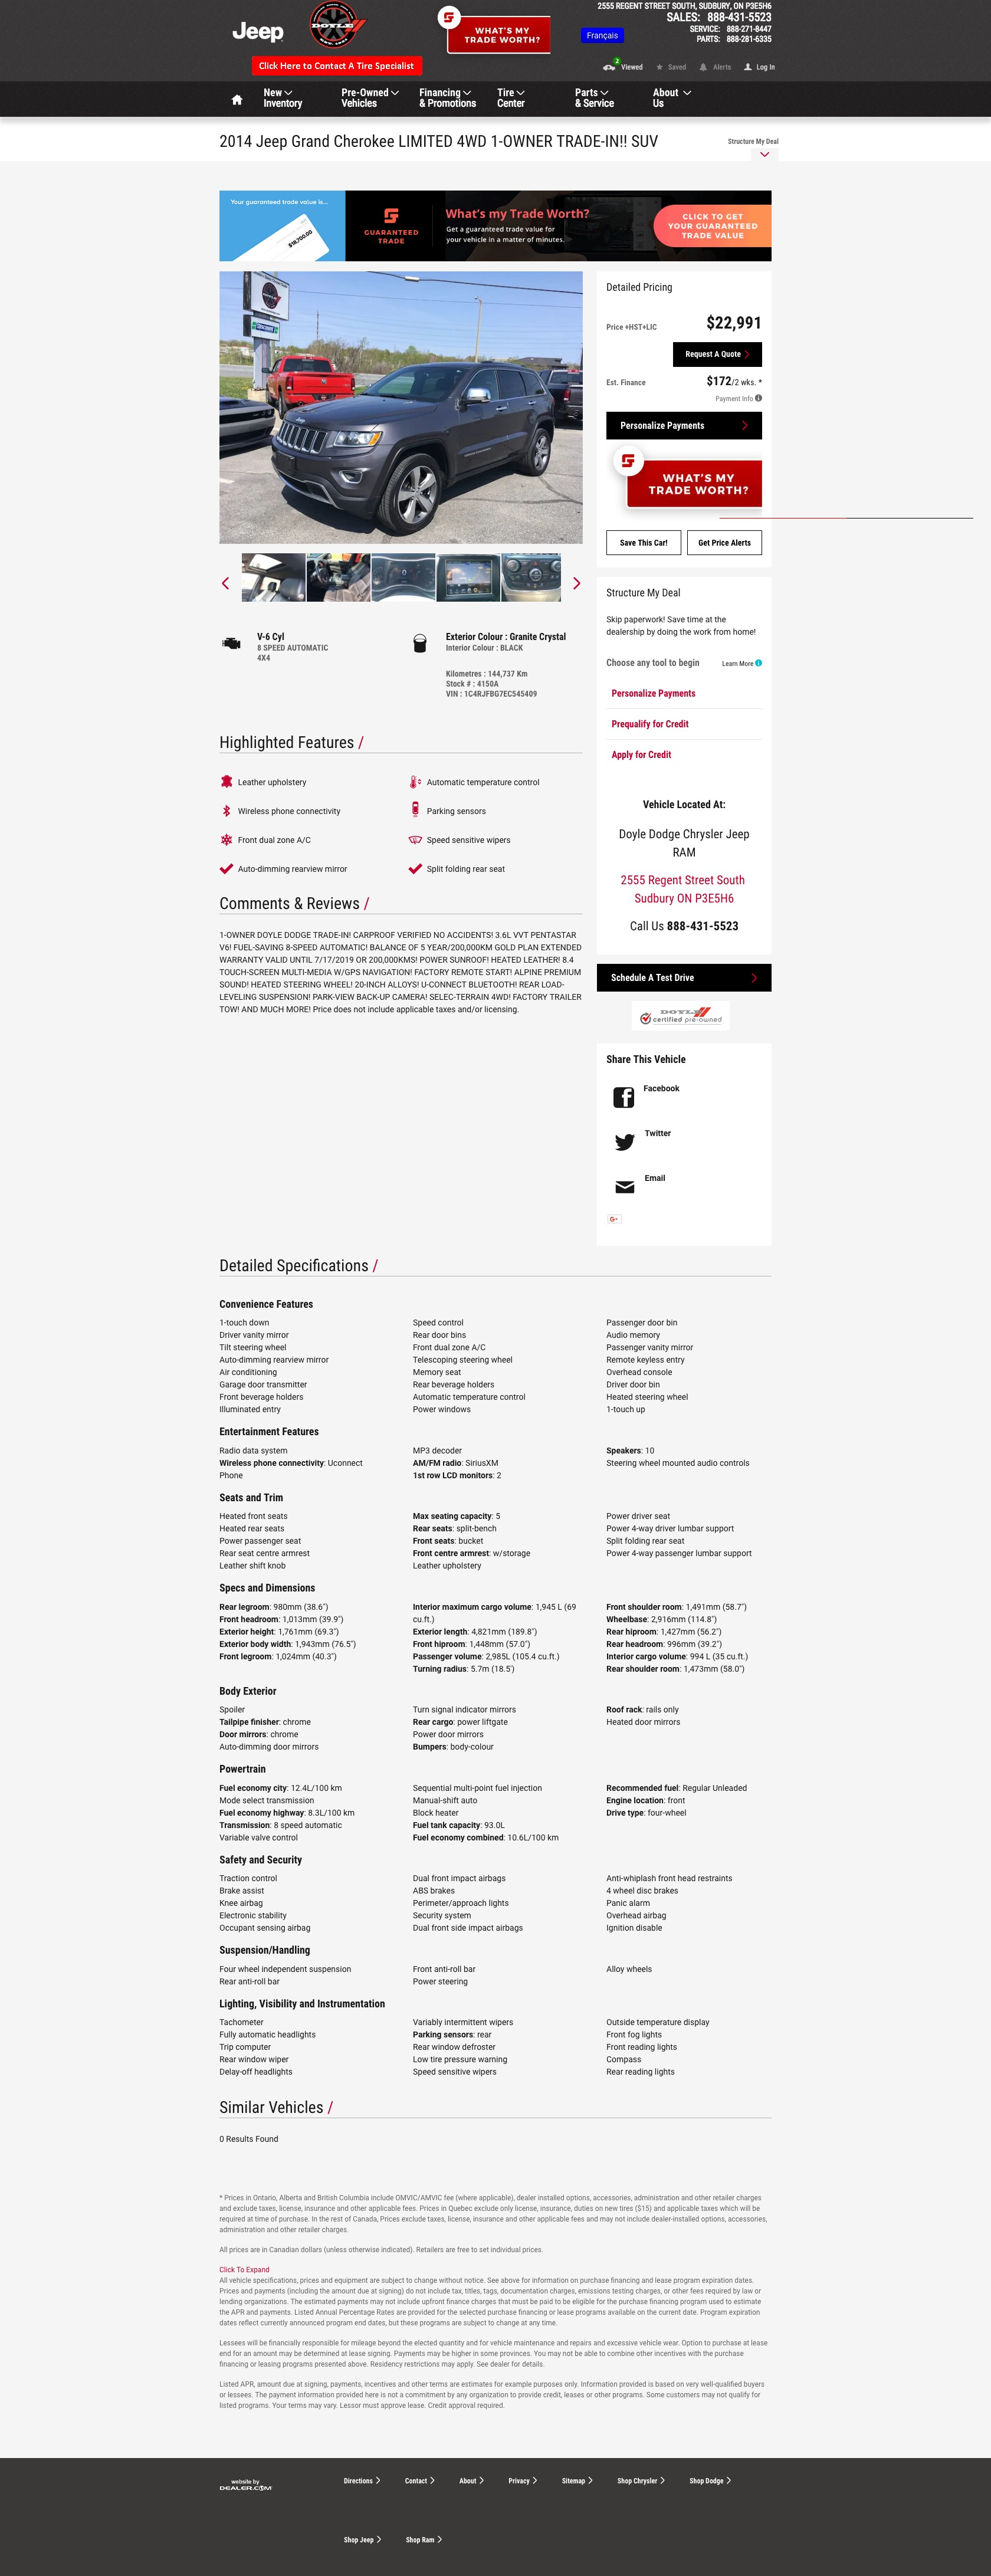car: (572, 577, 582, 591)
